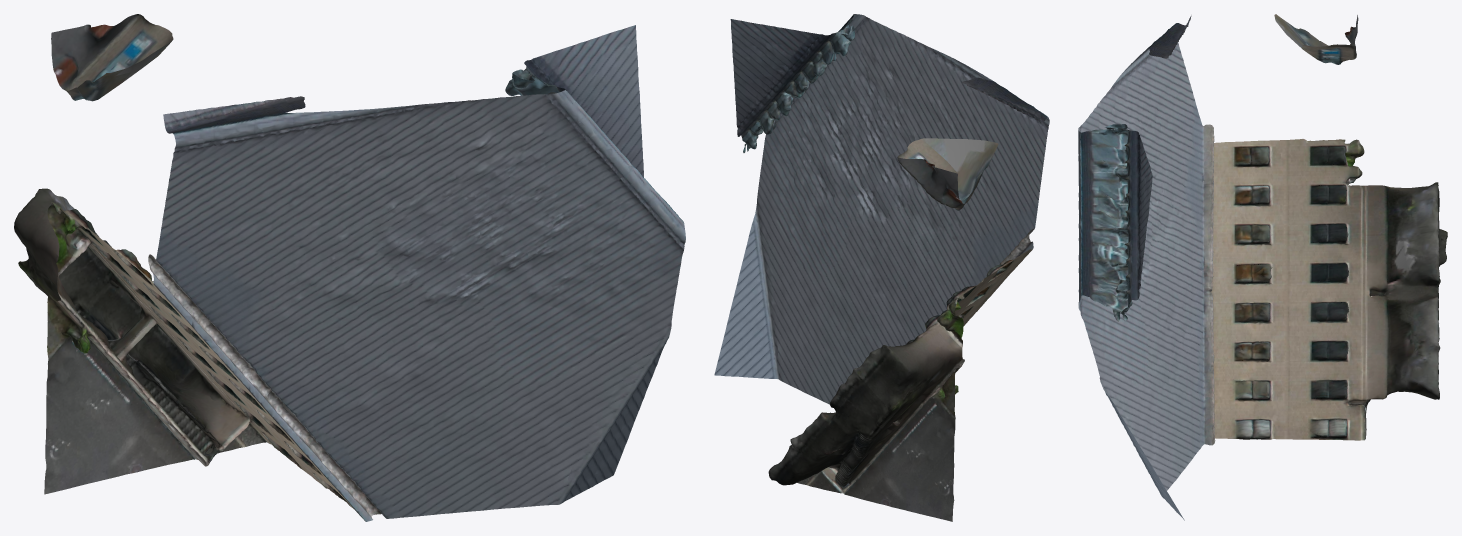
File: Tile_+013_+021.fbx
3 views of the same model, side by side, from view 1: azimuth 30°, elevation 25°; view 2: azimuth 150°, elevation 25°; view 3: azimuth 270°, elevation 25° (orthographic). The views are drawn at different scales.
Visible parts, largest first — view 1: DefaultName; view 2: DefaultName; view 3: DefaultName.
Part boxes in pixels (<box>): DefaultName: <box>14,14,685,521</box>; DefaultName: <box>714,14,1049,521</box>; DefaultName: <box>1078,14,1447,520</box>.
Size of the model in its own units: 22.54 by 22.54 by 21.8.
